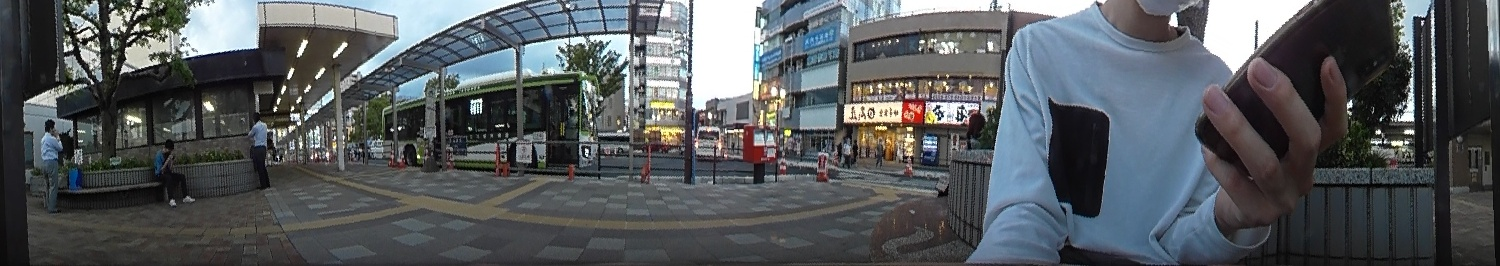difficult_person: (840, 130, 854, 166), (874, 137, 885, 166)
person: (29, 116, 72, 205), (150, 136, 195, 214), (242, 109, 275, 187)
